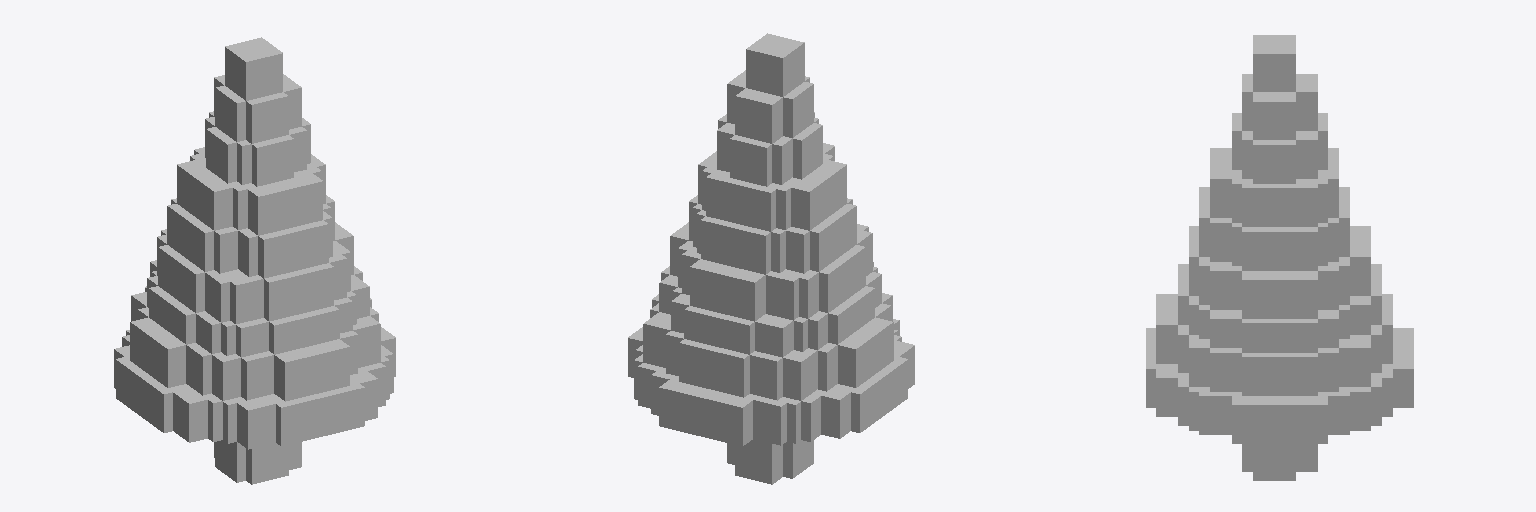
File: TreeCone.obj
3 views of the same model, side by side, from view 1: azimuth 30°, elevation 25°; view 2: azimuth 150°, elevation 25°; view 3: azimuth 270°, elevation 25° (orthographic).
Parts seen in each view (by area): view 1: object 1; view 2: object 1; view 3: object 1.
Part boxes in pixels (left/top/right/bottom): object 1: left=114, top=37, right=395, bottom=484; object 1: left=628, top=33, right=914, bottom=484; object 1: left=1146, top=35, right=1413, bottom=480.
Size of the model in its own units: 2.5 by 4.3 by 2.5.